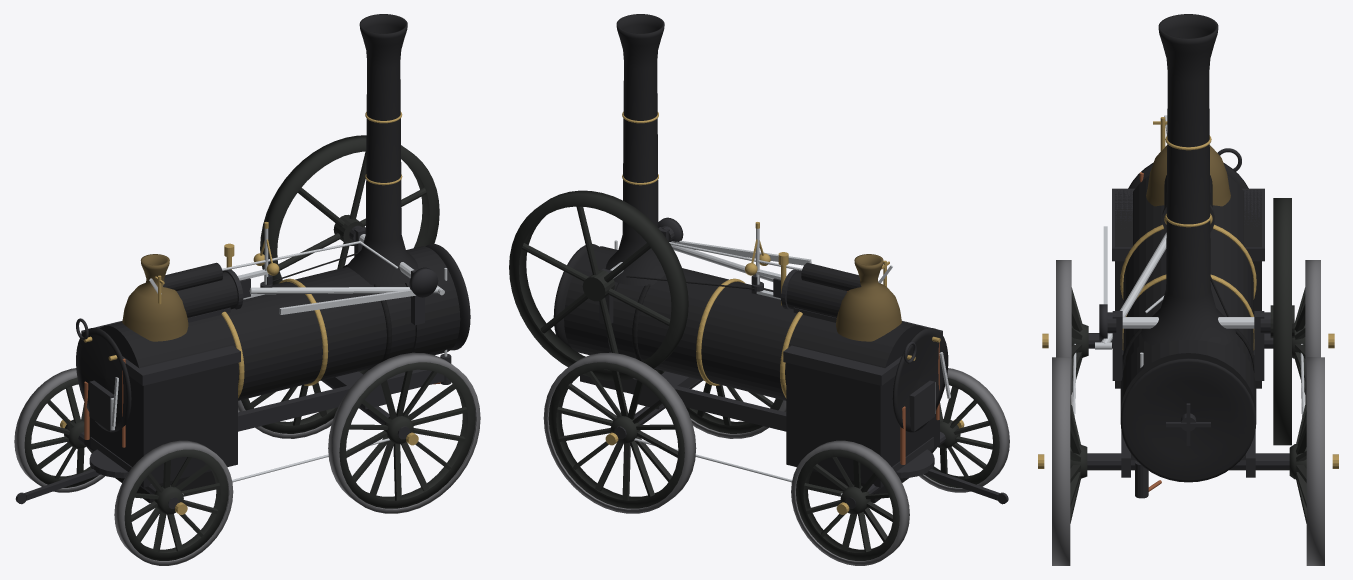
The model's file is portable-steam-engine.glb.
3 views of the same model, side by side, from view 1: azimuth 30°, elevation 25°; view 2: azimuth 150°, elevation 25°; view 3: azimuth 270°, elevation 25° (orthographic). The views are drawn at different scales.
Visible parts, largest first — view 1: BoilerBarrel, Chimney, FireboxWrapper, FlywheelRim, WheelFLRim, WheelFLTyre, SteamDome, Smokebox, Backhead, FrameRail, WheelRLRim, WheelRLTyre (+14 smaller); view 2: BoilerBarrel, FireboxWrapper, Chimney, FlywheelRim, WheelFRRim, WheelFRTyre, SteamDome, Backhead, WheelRRRim, Smokebox, FrameRail.001, WheelRRTyre (+13 smaller); view 3: Chimney, SmokeboxDoor, BoilerBarrel, FlywheelRim, WheelFLTyre, WheelFRTyre, Smokebox, FireboxWrapper, SteamDome, FireboxSaddle, WheelRLTyre, WheelRRTyre (+10 smaller).
Part boxes in pixels (x1,y1,x2,y2): BoilerBarrel: (99, 267, 415, 400); Chimney: (346, 14, 418, 285); FireboxWrapper: (84, 327, 237, 487); FlywheelRim: (260, 135, 439, 284); WheelFLRim: (339, 362, 475, 508); WheelFLTyre: (328, 352, 480, 513); SteamDome: (122, 254, 188, 341); Smokebox: (405, 246, 460, 355); Backhead: (76, 328, 131, 432); FrameRail: (238, 369, 444, 431); WheelRLRim: (124, 449, 228, 560); WheelRLTyre: (114, 440, 233, 565); BoilerBarrel: (611, 268, 924, 400); FireboxWrapper: (786, 327, 939, 487); Chimney: (605, 14, 665, 285); FlywheelRim: (509, 190, 688, 380); WheelFRRim: (548, 362, 684, 508); WheelFRTyre: (543, 352, 696, 513); SteamDome: (836, 254, 901, 341); Backhead: (892, 328, 948, 432); WheelRRRim: (796, 449, 899, 560); Smokebox: (564, 246, 619, 355); FrameRail.001: (580, 374, 786, 431); WheelRRTyre: (791, 440, 909, 565); Chimney: (1141, 14, 1235, 345); SmokeboxDoor: (1120, 358, 1256, 482); BoilerBarrel: (1123, 175, 1253, 369); FlywheelRim: (1273, 198, 1291, 445); WheelFLTyre: (1052, 357, 1070, 565); WheelFRTyre: (1306, 357, 1324, 565); Smokebox: (1120, 339, 1256, 416); FireboxWrapper: (1115, 190, 1261, 388); SteamDome: (1146, 145, 1230, 206); FireboxSaddle: (1112, 188, 1264, 261); WheelRLTyre: (1056, 260, 1071, 403); WheelRRTyre: (1305, 260, 1320, 403).
Bounding box in the file's own units: 4.65 × 4.27 × 2.12.
